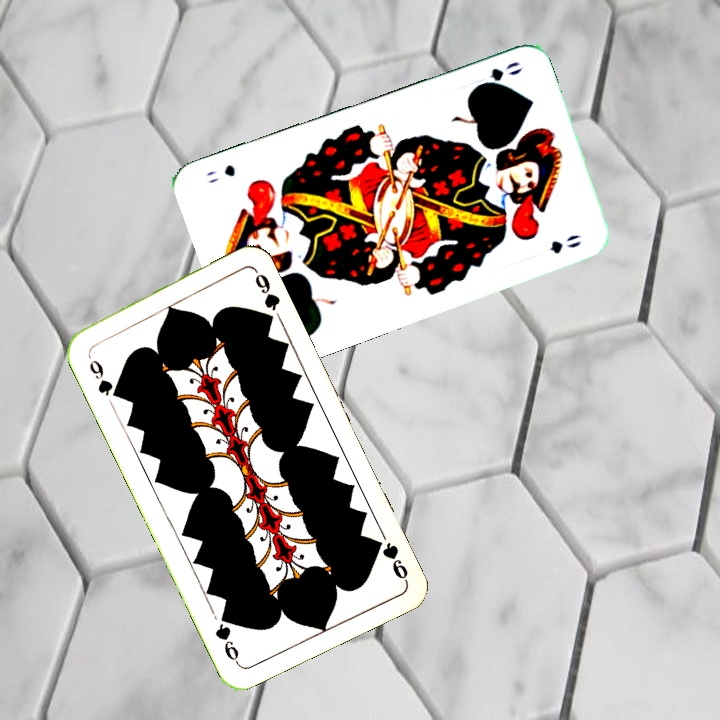G9: (368, 534, 411, 584), (85, 355, 122, 400)
GO: (469, 57, 525, 93)
